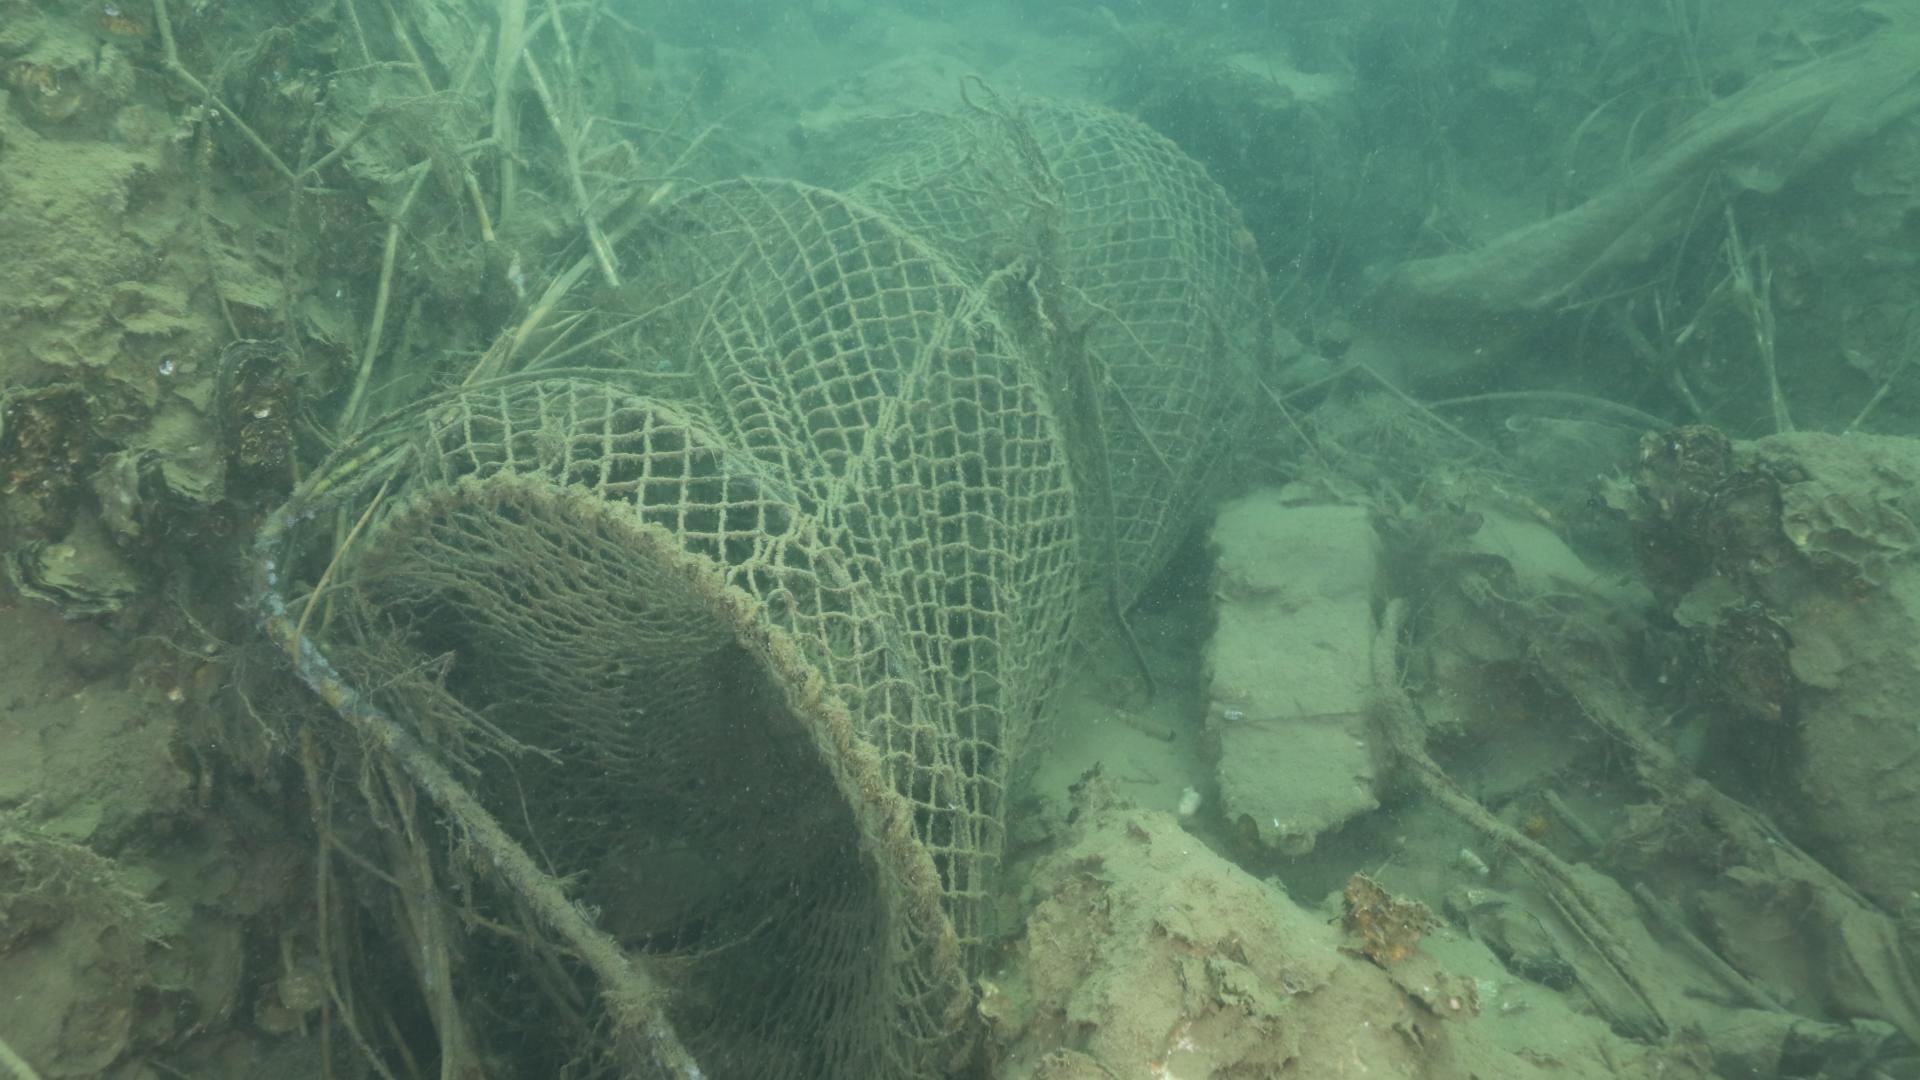rope: (248, 498, 702, 1080)
spring fish trap: (295, 90, 1276, 1080)
